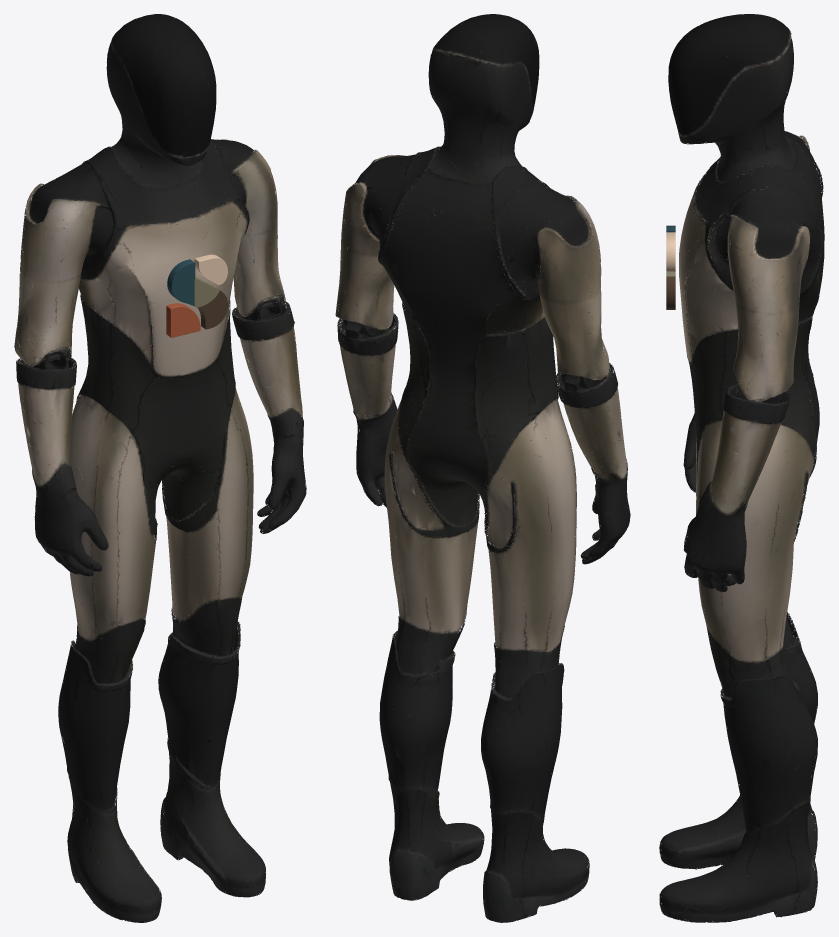
File: attendant.glb
3 views of the same model, side by side, from view 1: azimuth 30°, elevation 25°; view 2: azimuth 150°, elevation 25°; view 3: azimuth 270°, elevation 25° (orthographic).
Visible parts, largest first — view 1: body, head, teal, terracotta, cream, umber; view 2: body, head; view 3: body, head, cream.
Part boxes in pixels (<box>): body: <box>14,130,306,922</box>; head: <box>106,14,216,161</box>; teal: <box>167,259,195,305</box>; terracotta: <box>166,303,200,337</box>; cream: <box>194,254,227,285</box>; umber: <box>197,288,228,329</box>; body: <box>335,113,630,922</box>; head: <box>428,14,539,153</box>; body: <box>659,123,824,922</box>; head: <box>668,14,793,148</box>; cream: <box>666,232,675,271</box>.
Size of the model in its own units: 0.5829 by 1.78 by 0.3072.
6 materials, 1 textured.
